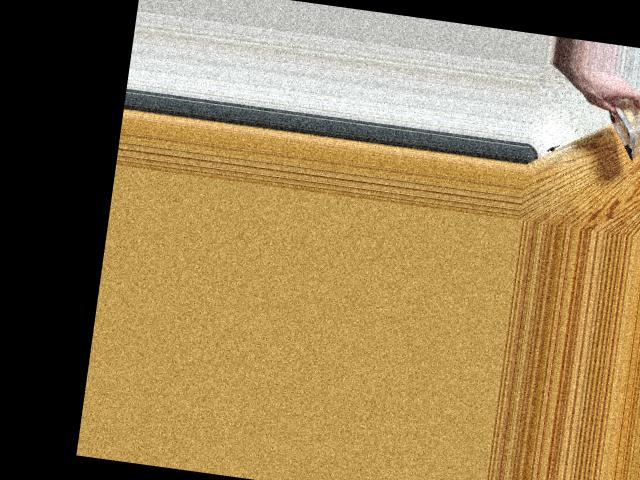cheese: (581, 79, 640, 151)
